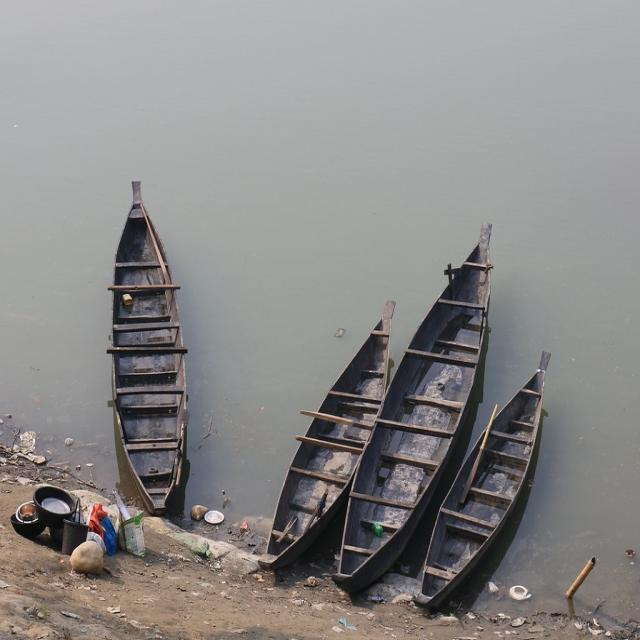boat: (94, 177, 208, 510), (424, 360, 554, 612)
